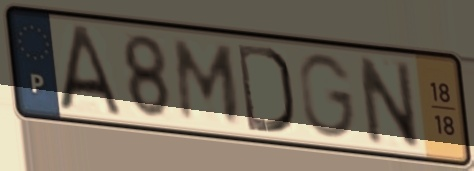8: (117, 32, 174, 121)
A: (57, 22, 124, 118)
D: (234, 39, 296, 137)
G: (295, 50, 359, 142)
M: (172, 35, 243, 126)
N: (353, 52, 424, 151)
